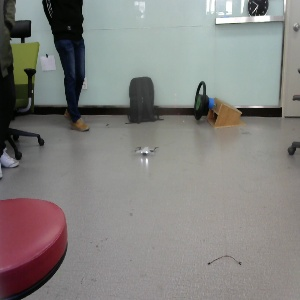Drone: (134, 140, 157, 171)
